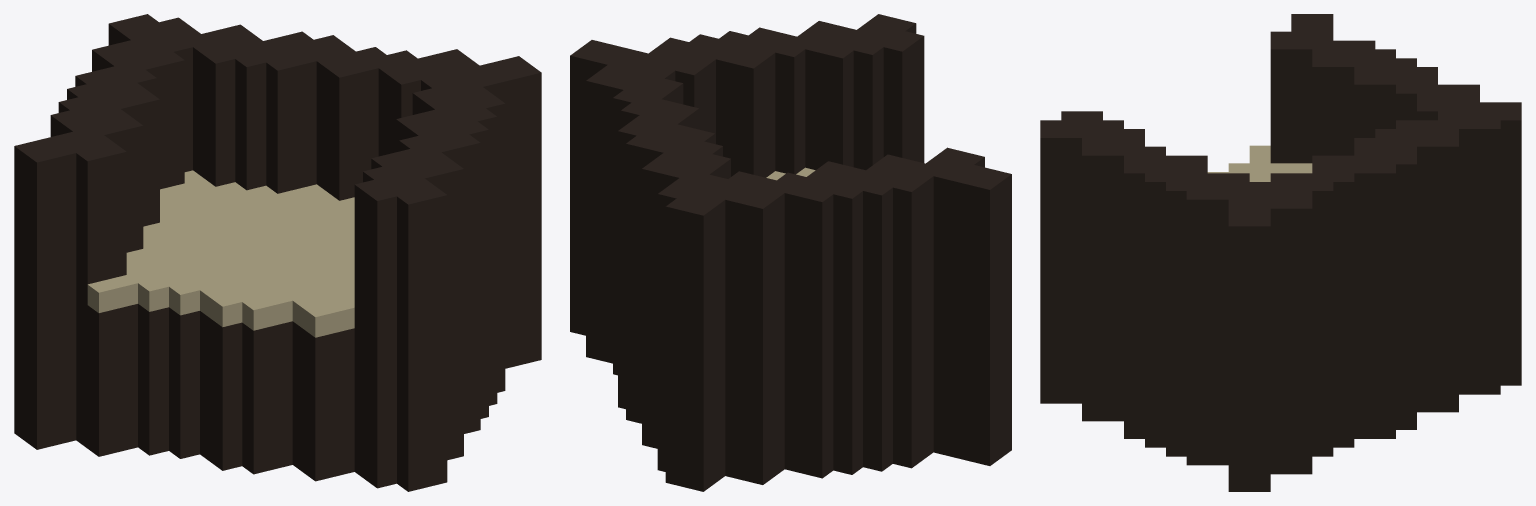
The model's file is old peopl's room-3.obj.
3 renders of one model, left to right at view 1: azimuth 30°, elevation 25°; view 2: azimuth 150°, elevation 25°; view 3: azimuth 270°, elevation 25°, orthographic. The views are drawn at different scales.
Bounding box in the file's own units: 2.4 × 1.4 × 2.3.
Materials: 1 (1 with a texture image).
